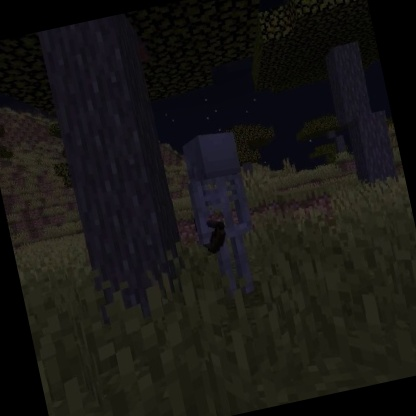skeleton: (172, 122, 273, 306)
